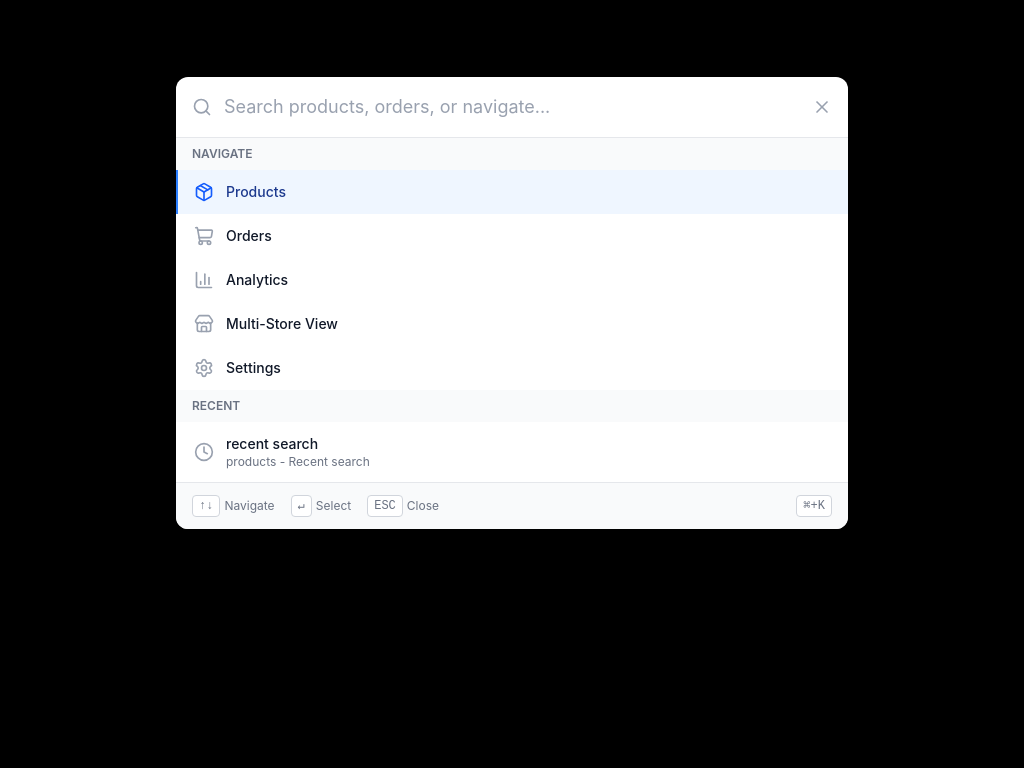
Scenario: QuickSwitcher › Search Functionality › should show no results message when nothing matches
The image size is (1024, 768).
Type "nonexistent" into the field with placeholder "Search products, orders, or navigate..." at [512, 107], box 224,93 -> 800,121
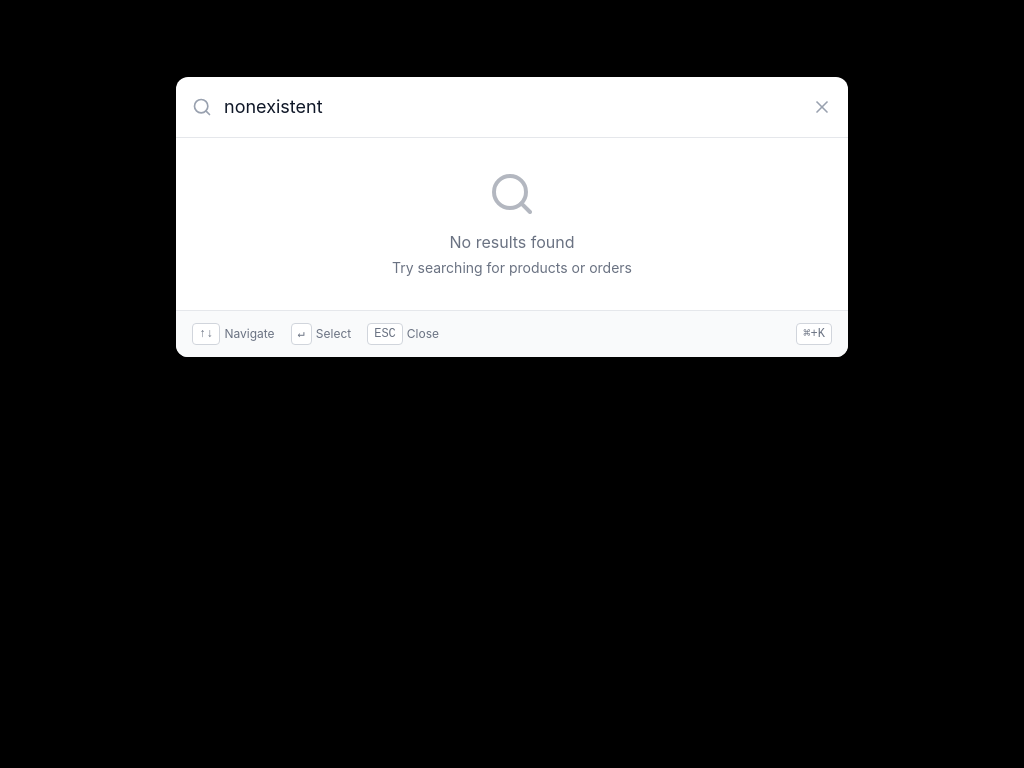
Now the text "No results found" is shown, box 450,232 -> 574,252
